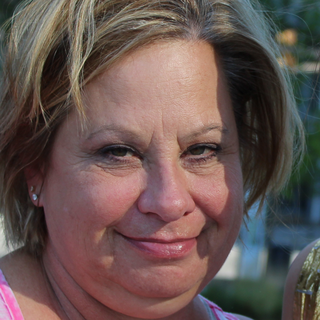eye: (87, 140, 143, 166), (180, 139, 227, 164)
